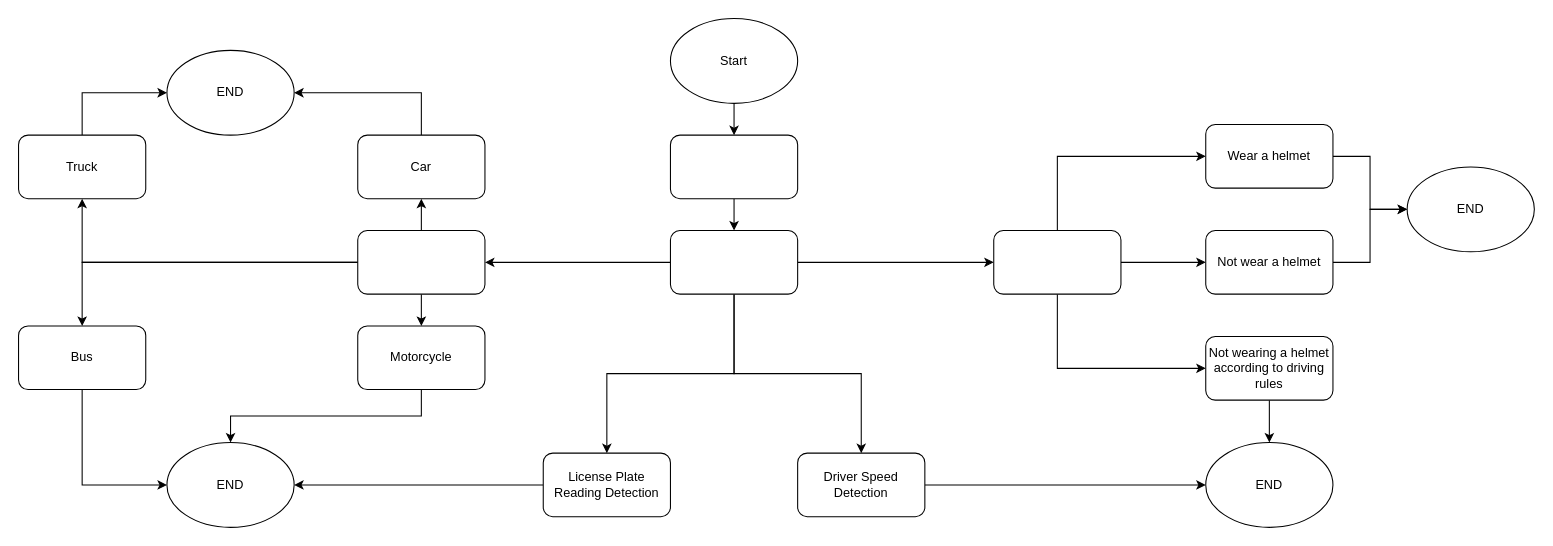
The diagram is 1553 pixels wide and 546 high, and some of its shapes have lost their labels. The shapes that lost their labels are listed below. From the top down, each one's centre as x and y in pixels, then its label:
At (733,166): "Photo/Video from Camera".
At (421,261): "Vehicle Type Detection".
At (733,261): "Classification model used".
At (1057,261): "Helmet Use Detection".
